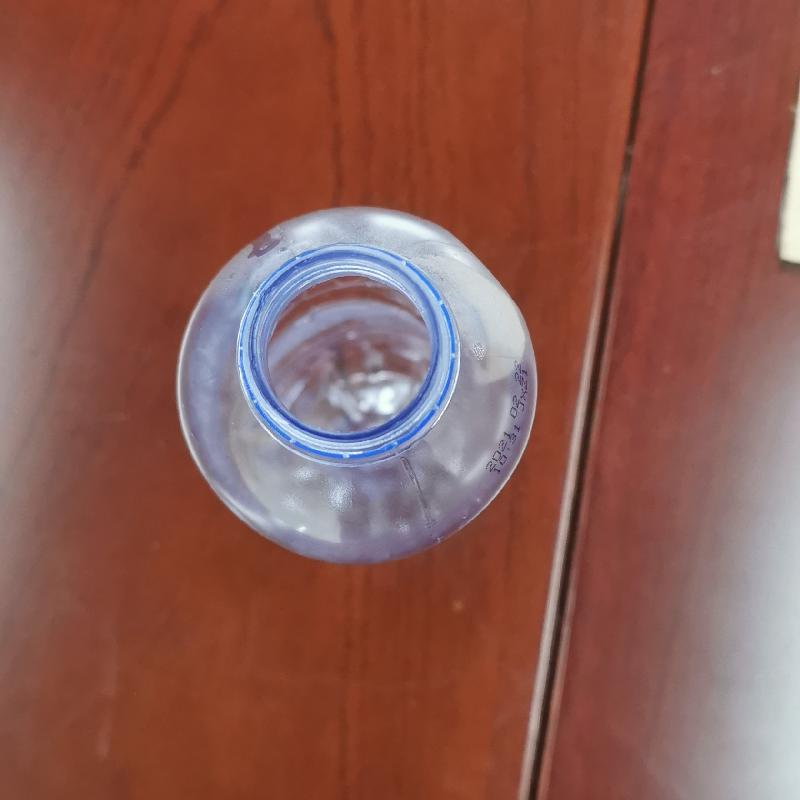bottles: (165, 201, 543, 568)
